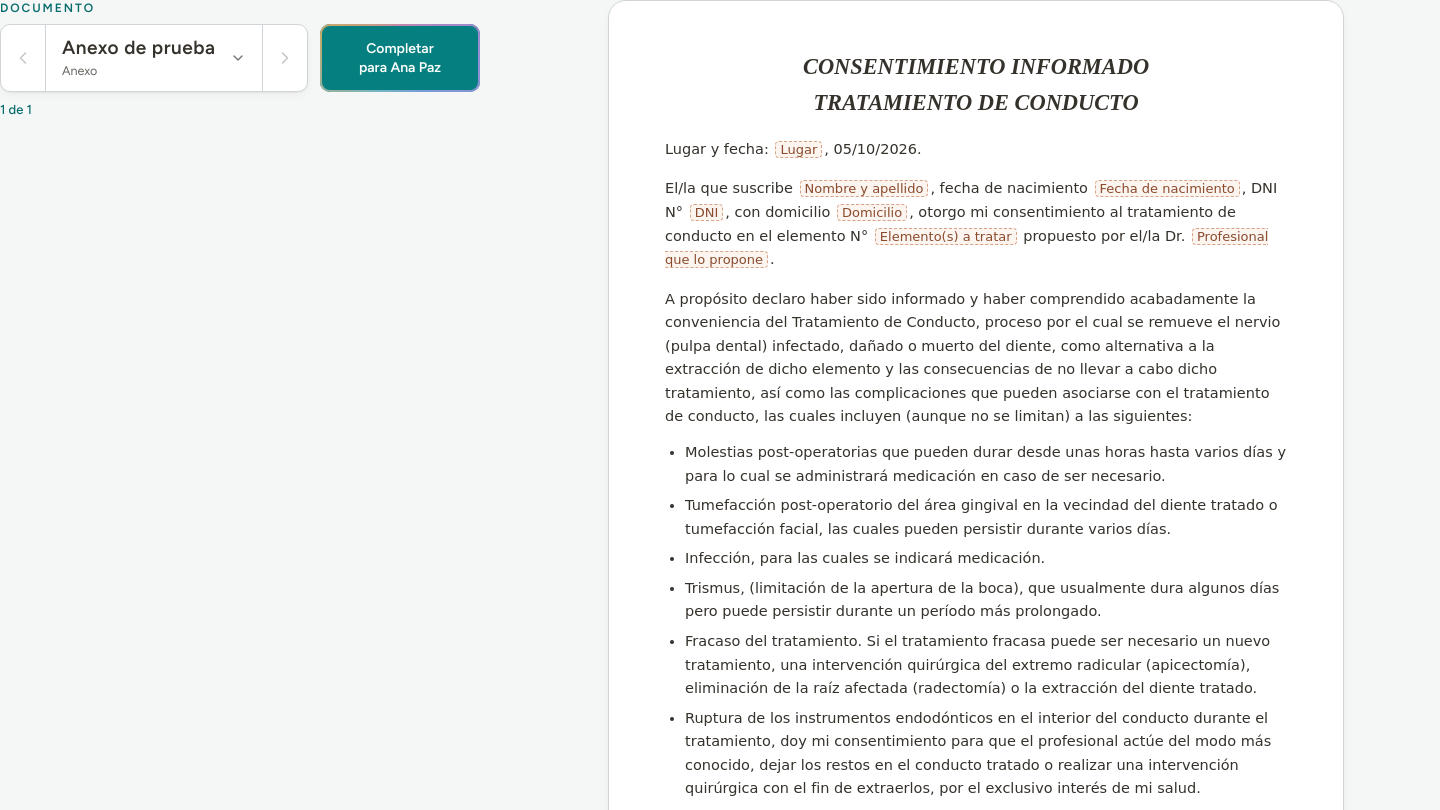
ModuloDocumentos con un anexo › desde la ficha, completar busca las historias del paciente y abre el paso de la historia
Click the button "Completar para Ana Paz": (400, 58) [320, 24, 480, 92]
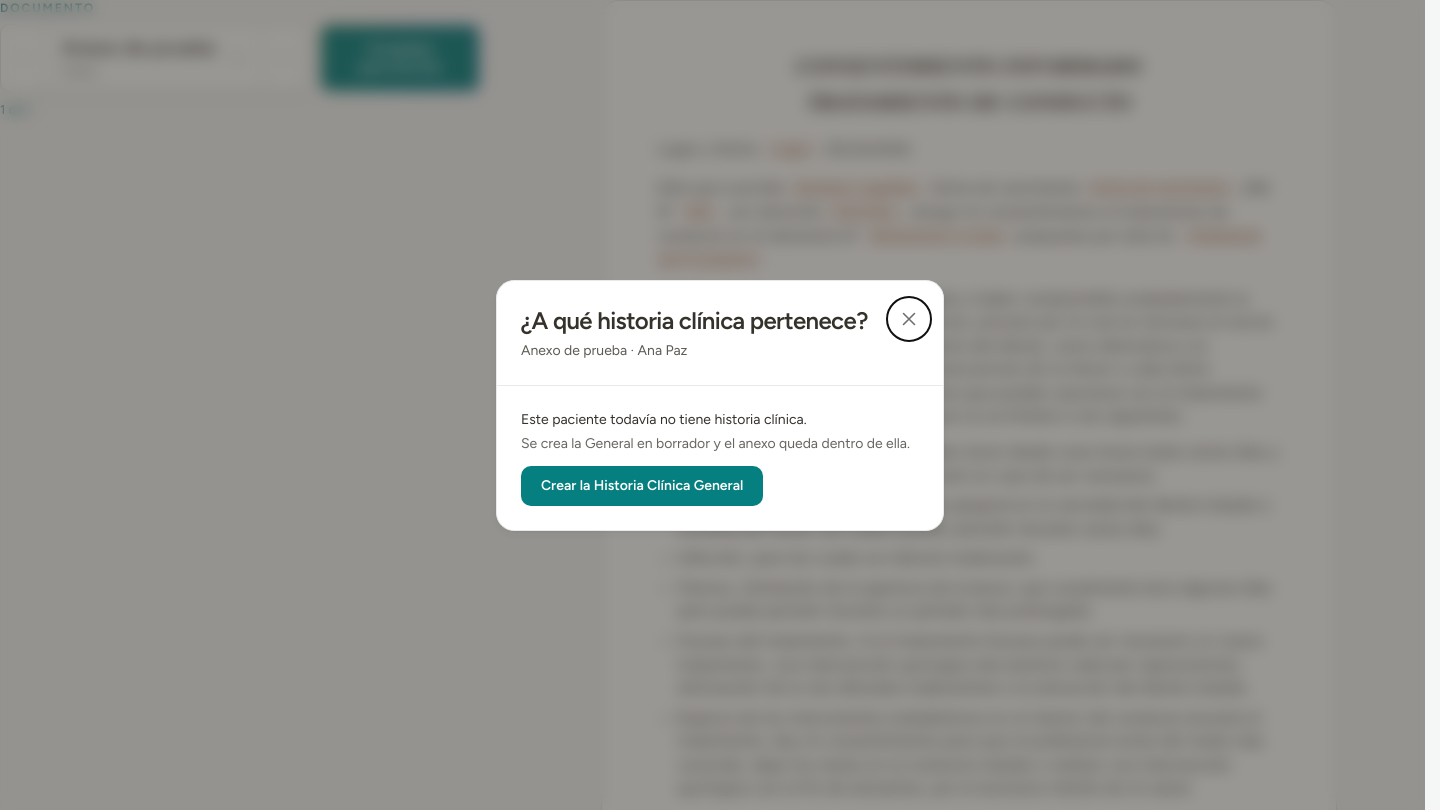
Expected: the button "Crear la Historia Clínica General" is shown, [521, 466, 763, 506]
# Cerrarlo vuelve al módulo.
Click the button named "Cerrar": (909, 318) [887, 296, 931, 340]
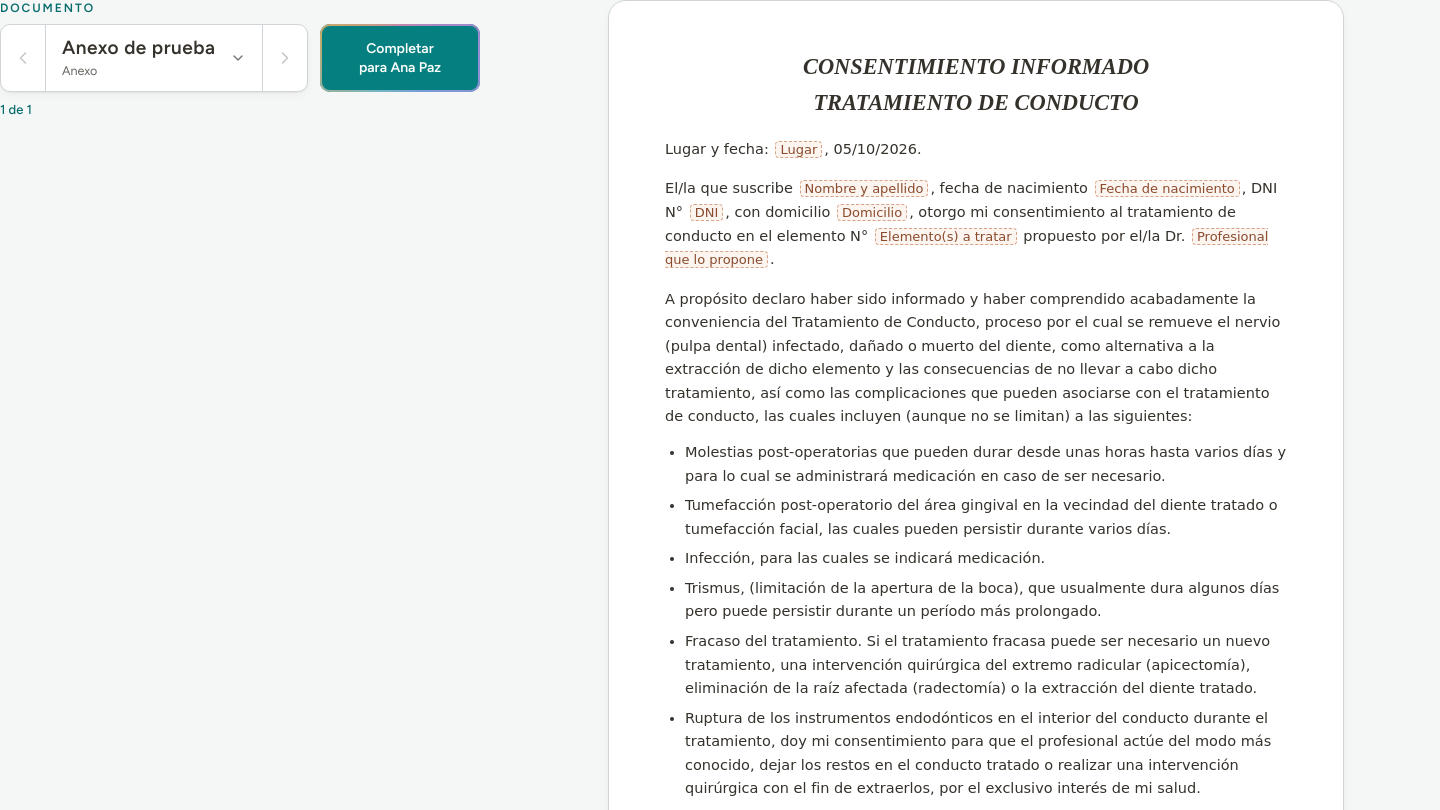
Expected: the dialog is gone
